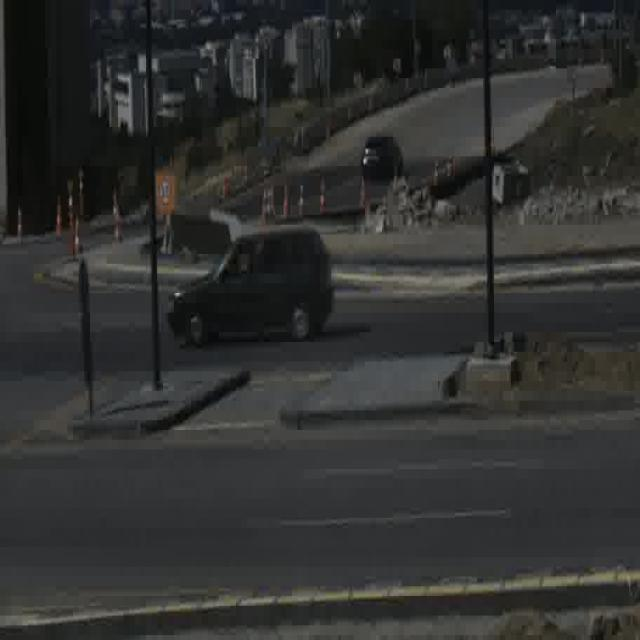Car: (167, 221, 334, 353), (361, 134, 404, 180)
